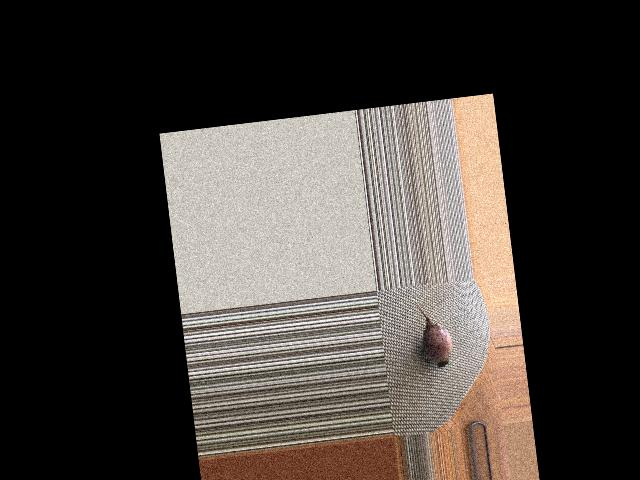beet: (410, 295, 454, 370)
